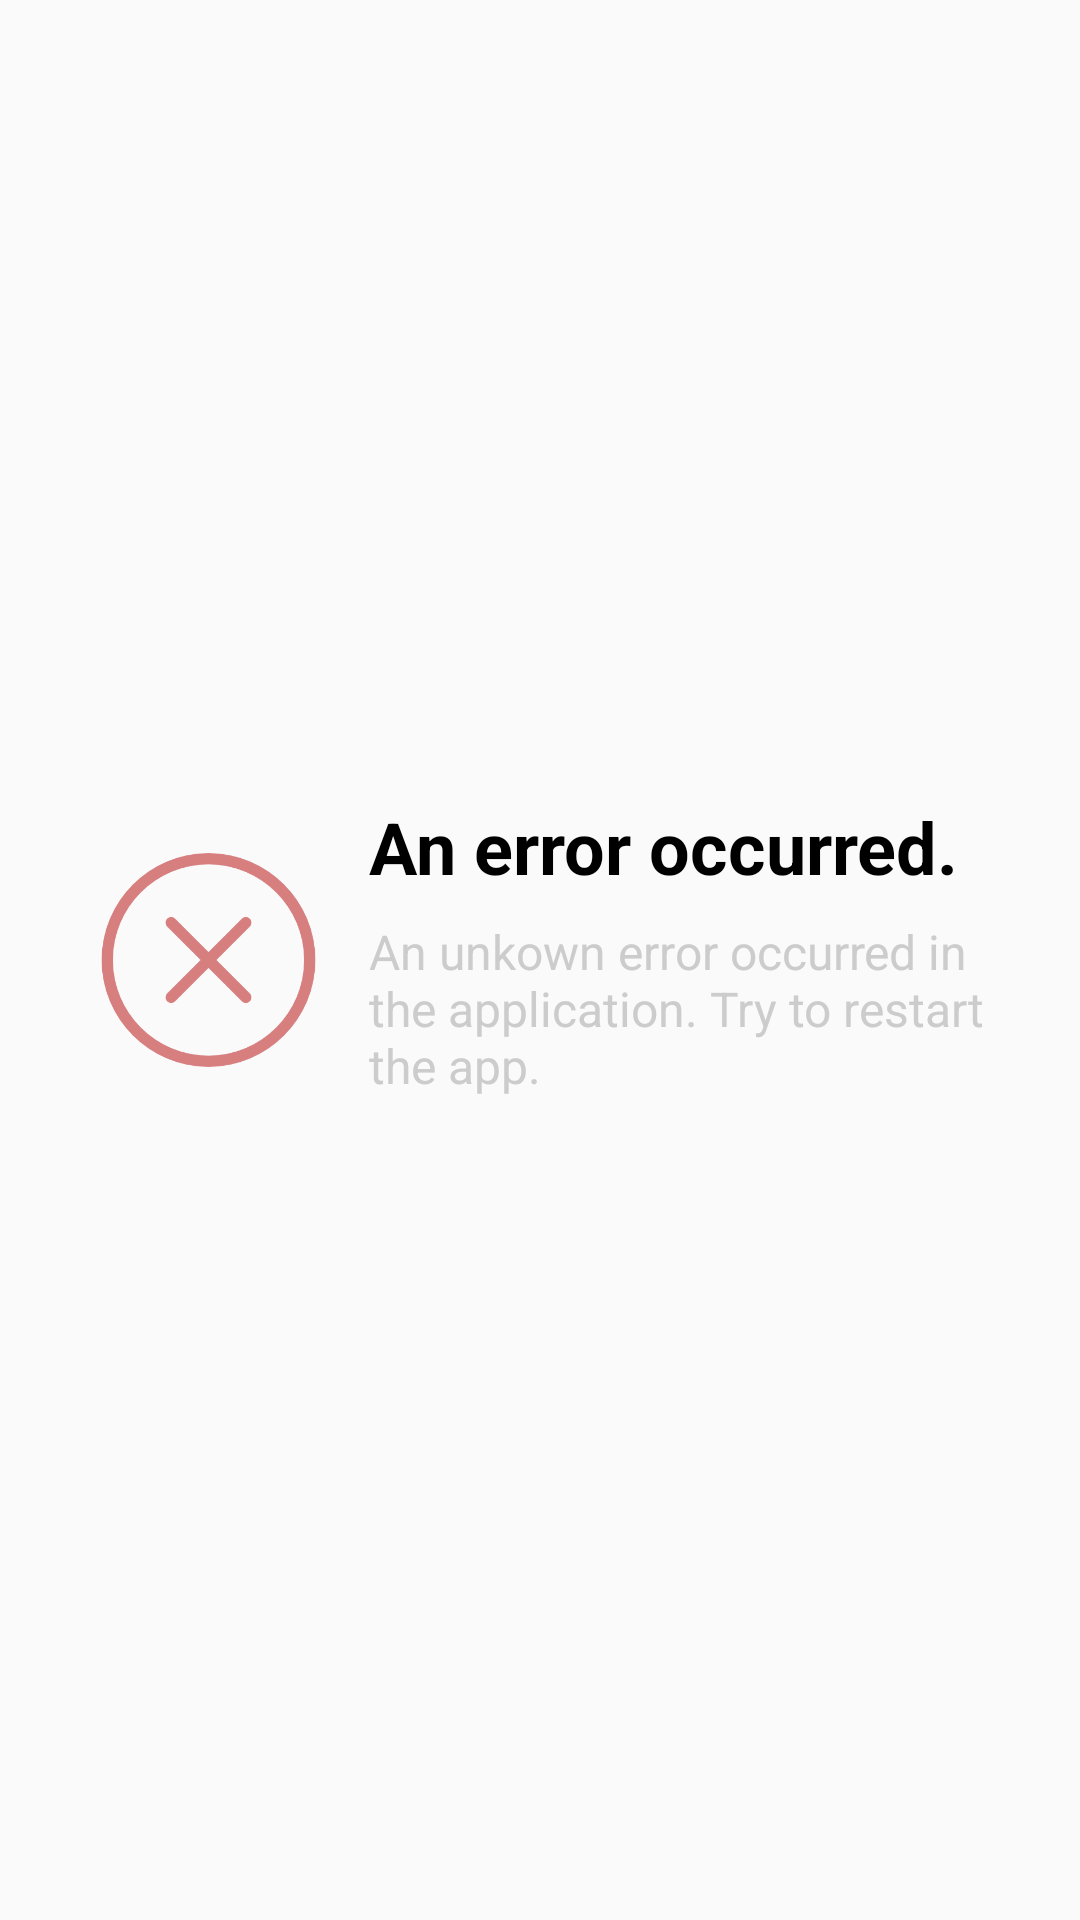

Icon bounding boxes for this 1080px×1920px phone screenshot, format (x1, y1, x2, y2):
error general: (101, 853, 316, 1067)
